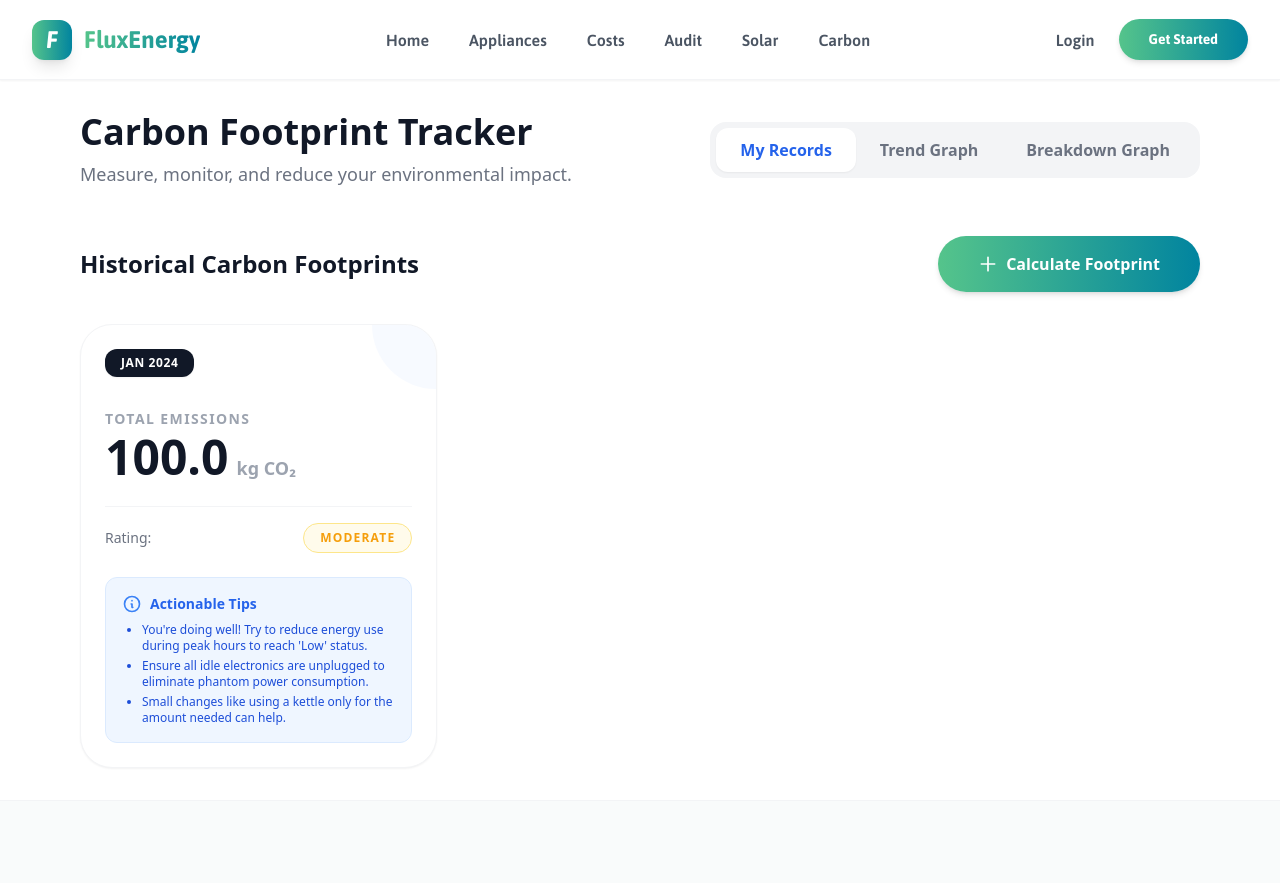
Test: CarbonTracker Page › switches tabs
This screenshot has width=1280, height=883.
Expected: the text "100.0 kg CO₂" is shown, [105,424,296,489]
Step 1. Click the button "Trend Graph" → x=929, y=150, box [856,128,1002,172]
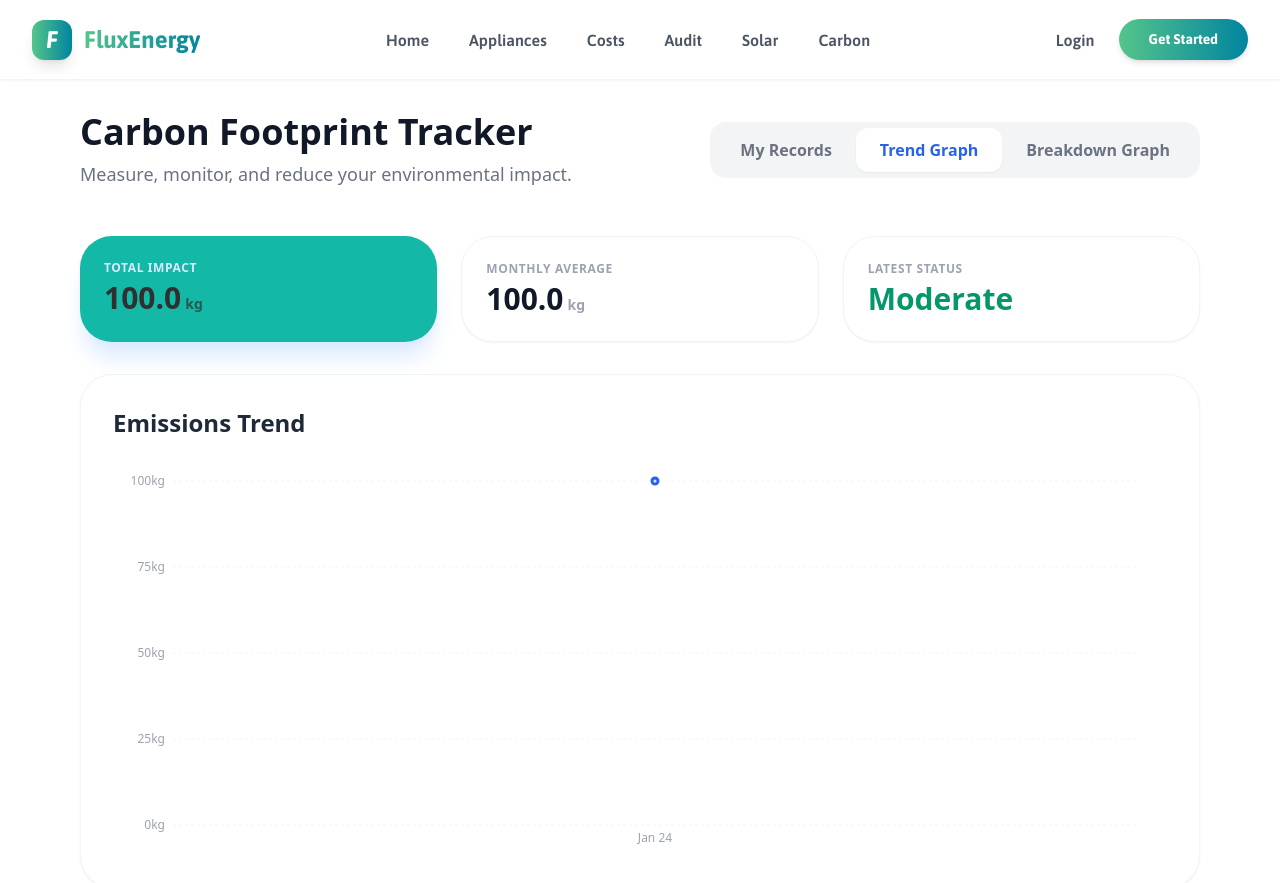
Expected: the heading "Emissions Trend" is shown, [113,406,306,439]
Step 2. Click the button "Breakdown Graph" → x=1098, y=150, box [1002,128,1194,172]
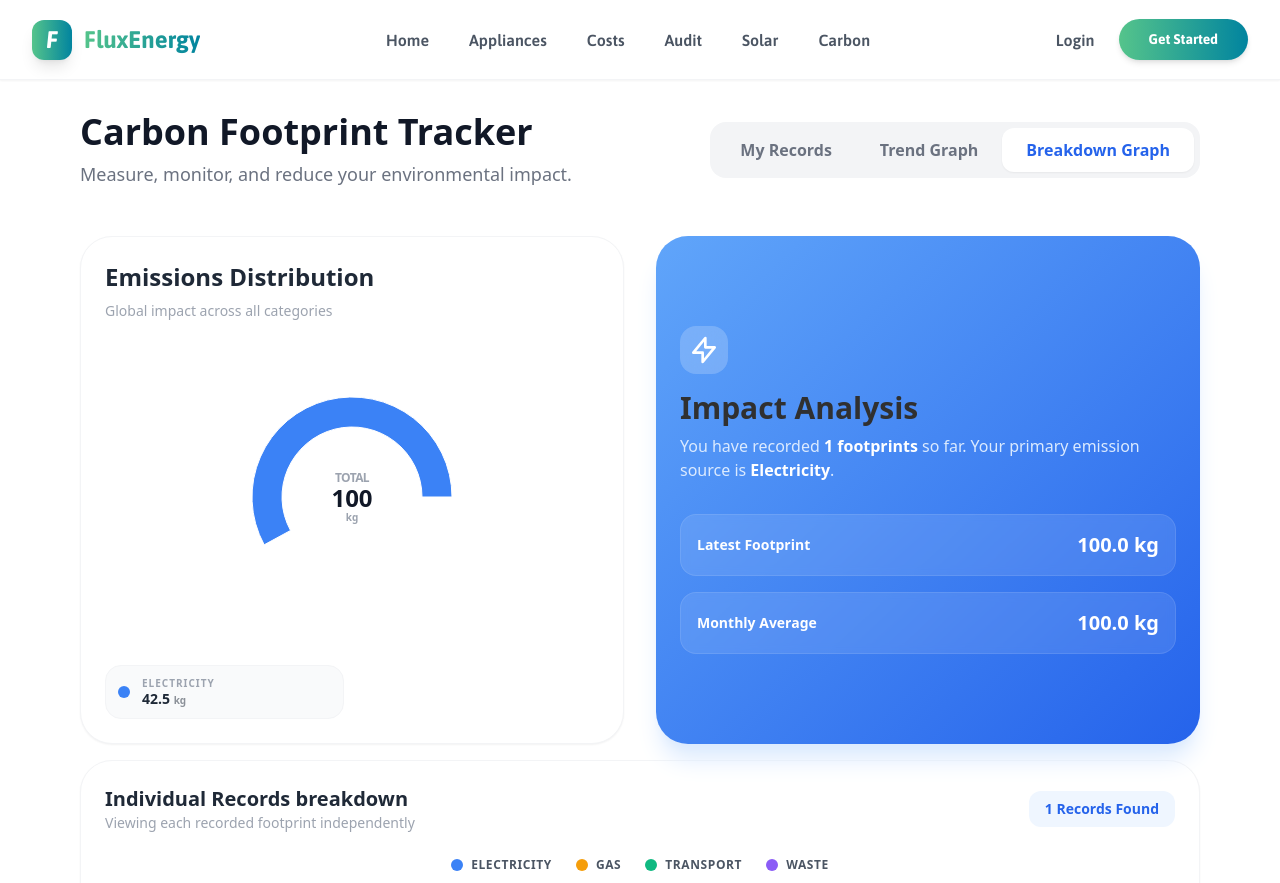
Expected: the heading "Emissions Trend" is gone
Expected: the heading "Emissions Distribution" is shown, [105,261,374,293]
